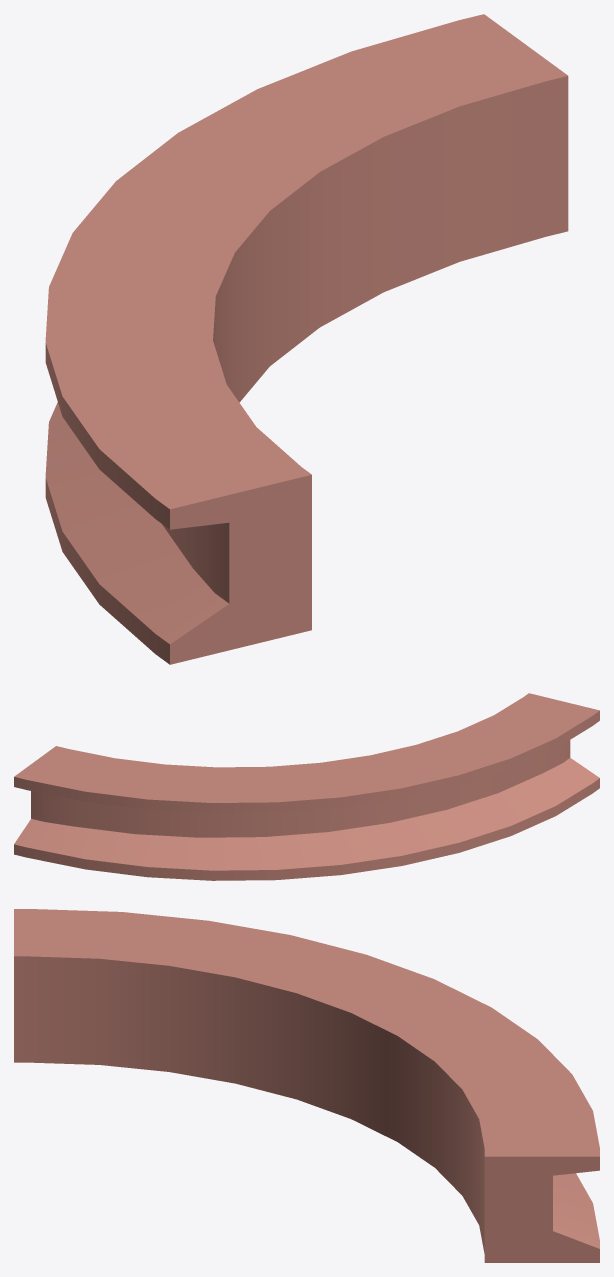
Rendered from TrimBasicWall1x5CornerRoundedLong.fbx.
3 views of the same model, one above another, from view 1: azimuth 30°, elevation 25°; view 2: azimuth 150°, elevation 25°; view 3: azimuth 270°, elevation 25° (orthographic). The views are drawn at different scales.
Parts seen in each view (by area): view 1: TrimBasicWall1x5CornerRoundedLong.001; view 2: TrimBasicWall1x5CornerRoundedLong.001; view 3: TrimBasicWall1x5CornerRoundedLong.001.
Part boxes in pixels (bbox=[...]): TrimBasicWall1x5CornerRoundedLong.001: bbox=[45, 14, 568, 664]; TrimBasicWall1x5CornerRoundedLong.001: bbox=[14, 693, 599, 880]; TrimBasicWall1x5CornerRoundedLong.001: bbox=[14, 909, 599, 1262].
Bounding box in the file's own units: 500 × 100 × 500.
